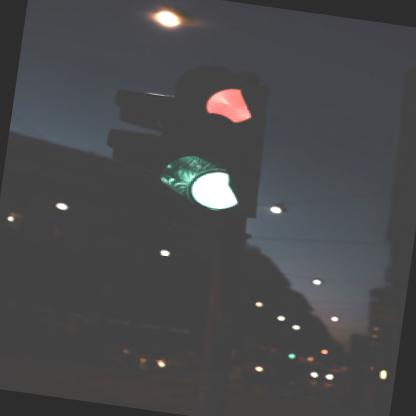trafficlight: (90, 49, 284, 248)
